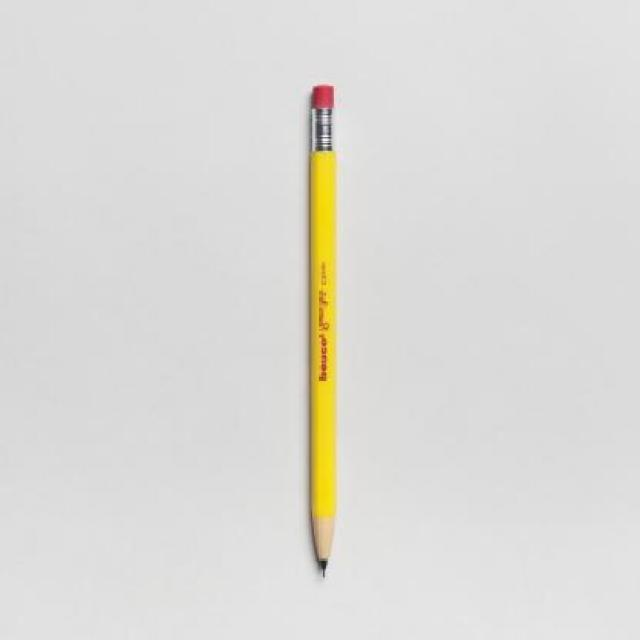pencil: (294, 492, 350, 588)
